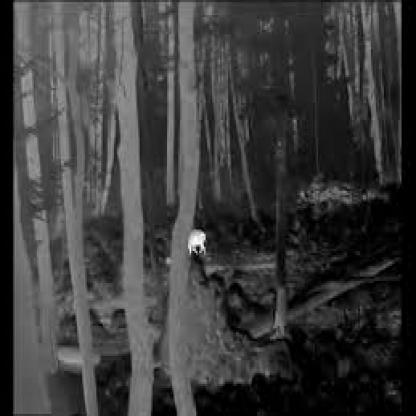rehkitze: (178, 224, 209, 258)
